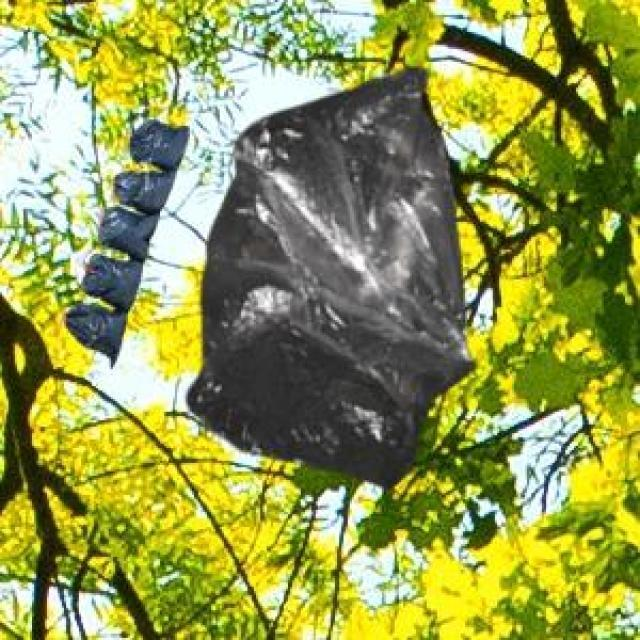miscellaneous trash: (60, 115, 184, 363)
